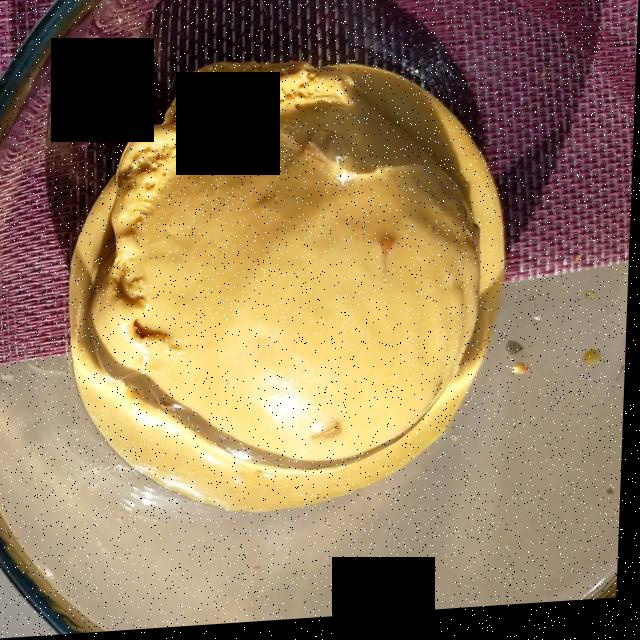dairy-ice-cream: (81, 67, 499, 508)
